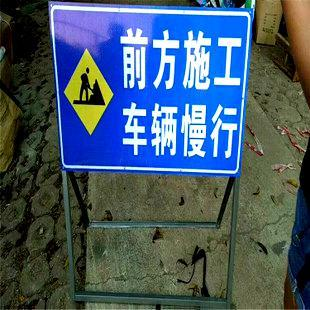sign: (53, 8, 252, 172)
